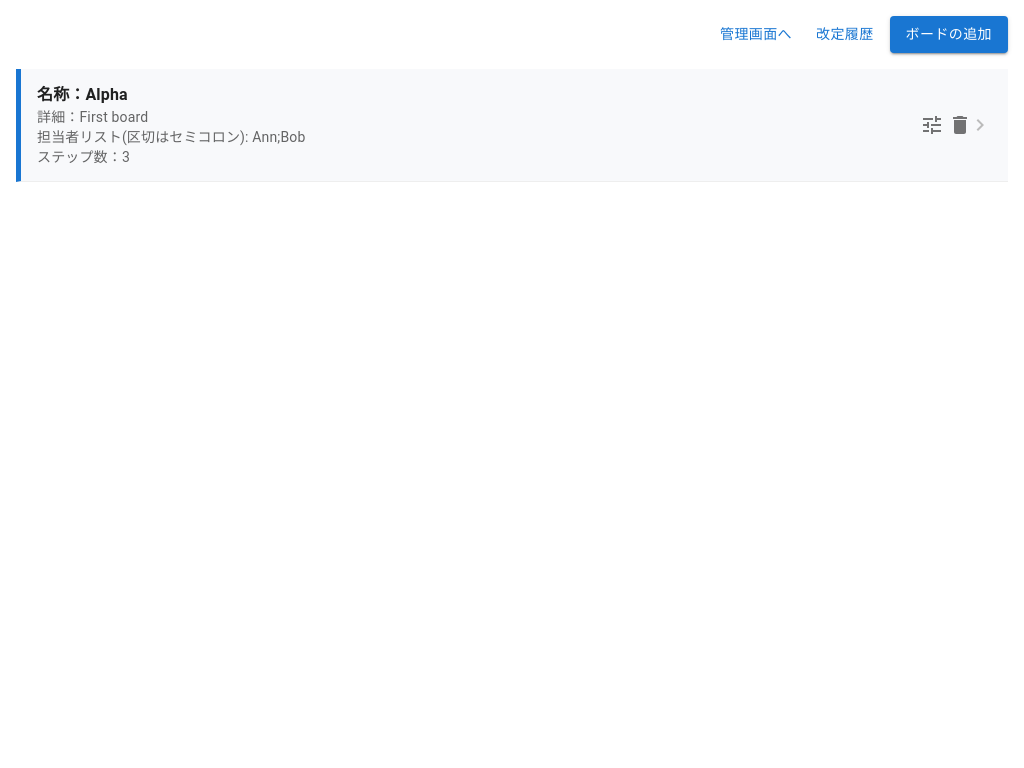
Test: row menu entry is localized under ja (プロセスステップ設定)
IconButton exposes its aria-label as the accessible name.
Click the button named "プロセスステップ設定" at (932, 124), box [912,104,952,144]
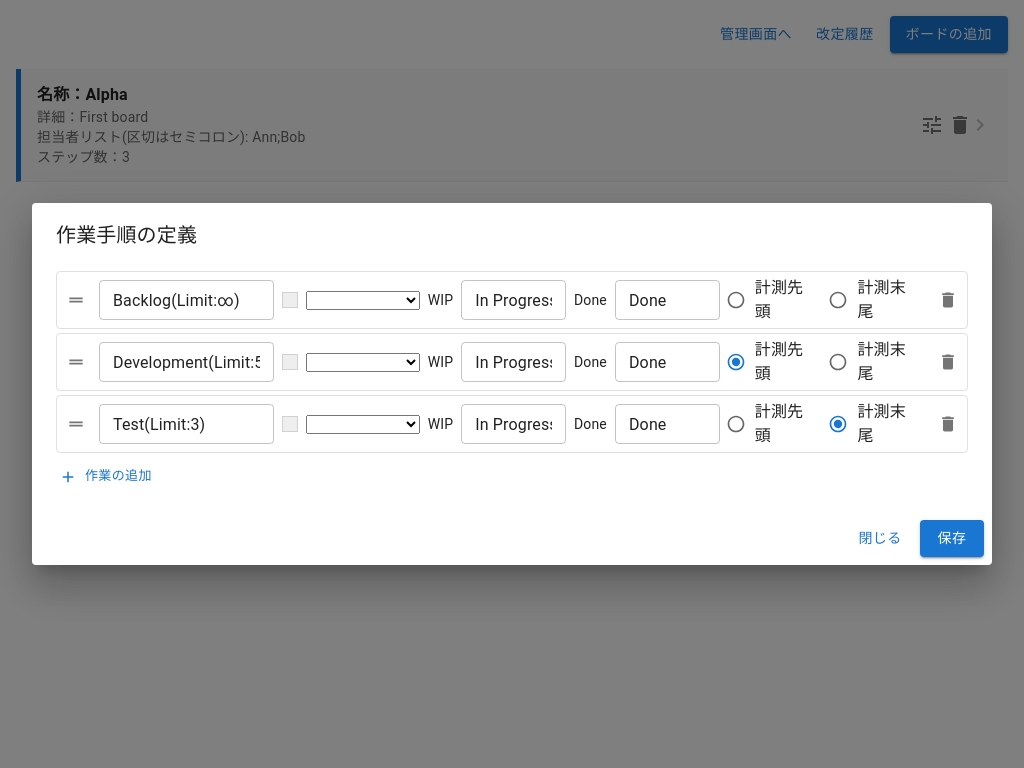
expect the element with test id "process-step-editor" is shown: met
